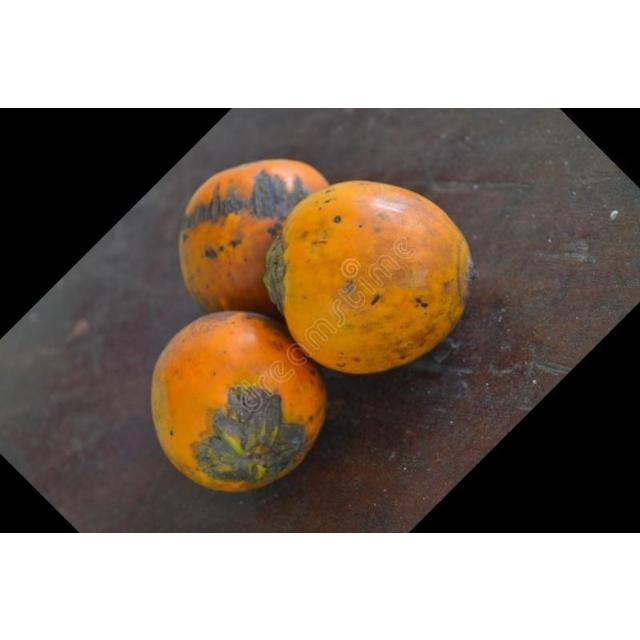good: (266, 180, 472, 376), (149, 309, 328, 494), (178, 159, 330, 319)
